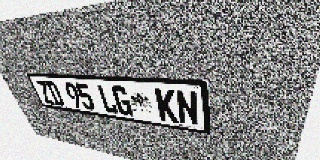5: (74, 83, 96, 111)
9: (63, 82, 84, 109)
D: (44, 81, 65, 106)
G: (110, 85, 134, 116)
K: (154, 88, 178, 123)
L: (96, 84, 119, 114)
N: (175, 90, 199, 126)
Z: (35, 80, 55, 105)
